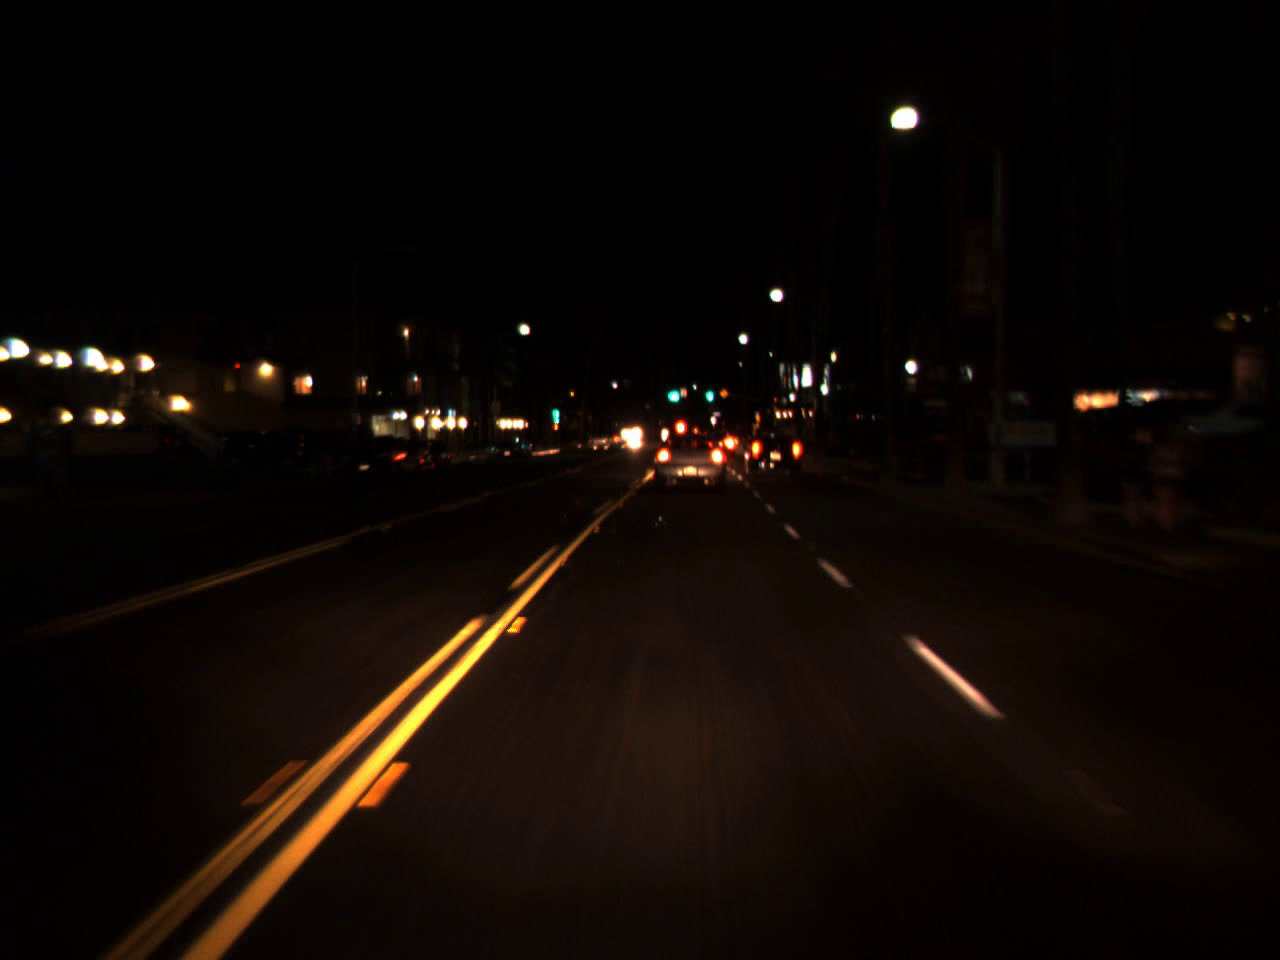go: (662, 377, 681, 407), (550, 392, 560, 428), (702, 381, 714, 402)
